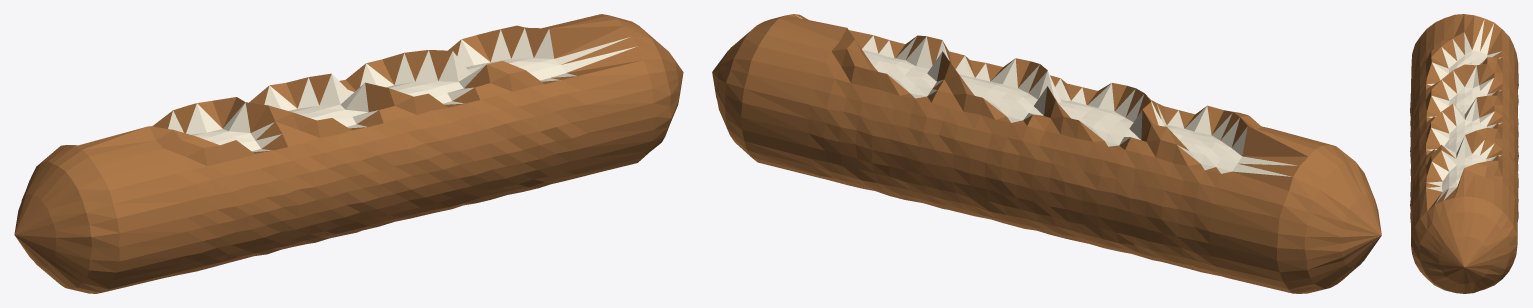
File: baguette.glb
The picture shows the model from 3 angles, left to right: view 1: azimuth 30°, elevation 25°; view 2: azimuth 150°, elevation 25°; view 3: azimuth 270°, elevation 25°; orthographic projection. The views are drawn at different scales.
Bounding box in the file's own units: 10 × 2.12 × 2.02.
